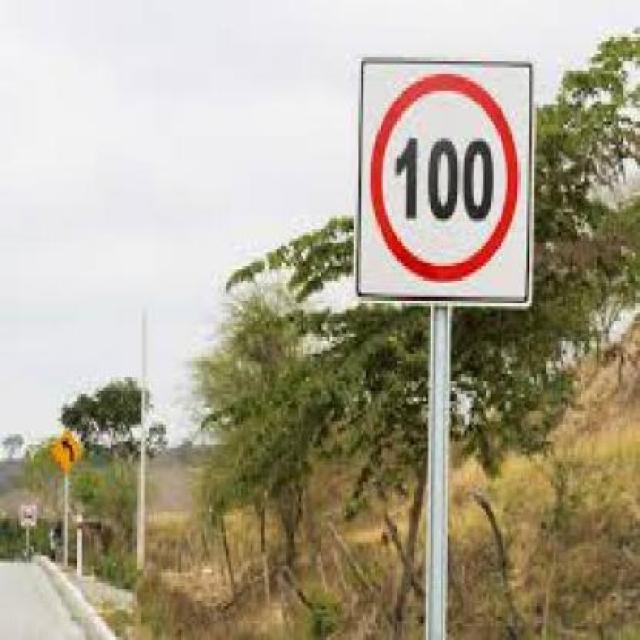forb_speed_over_100: (375, 91, 518, 272)
